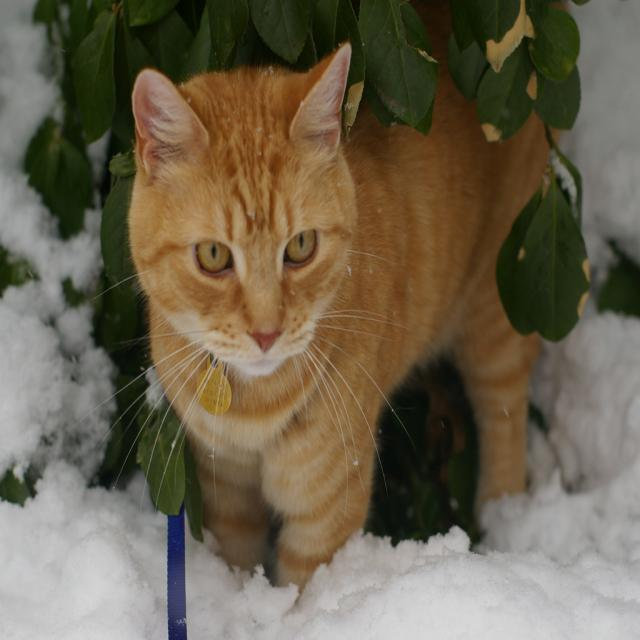Cat: (88, 0, 567, 599)
